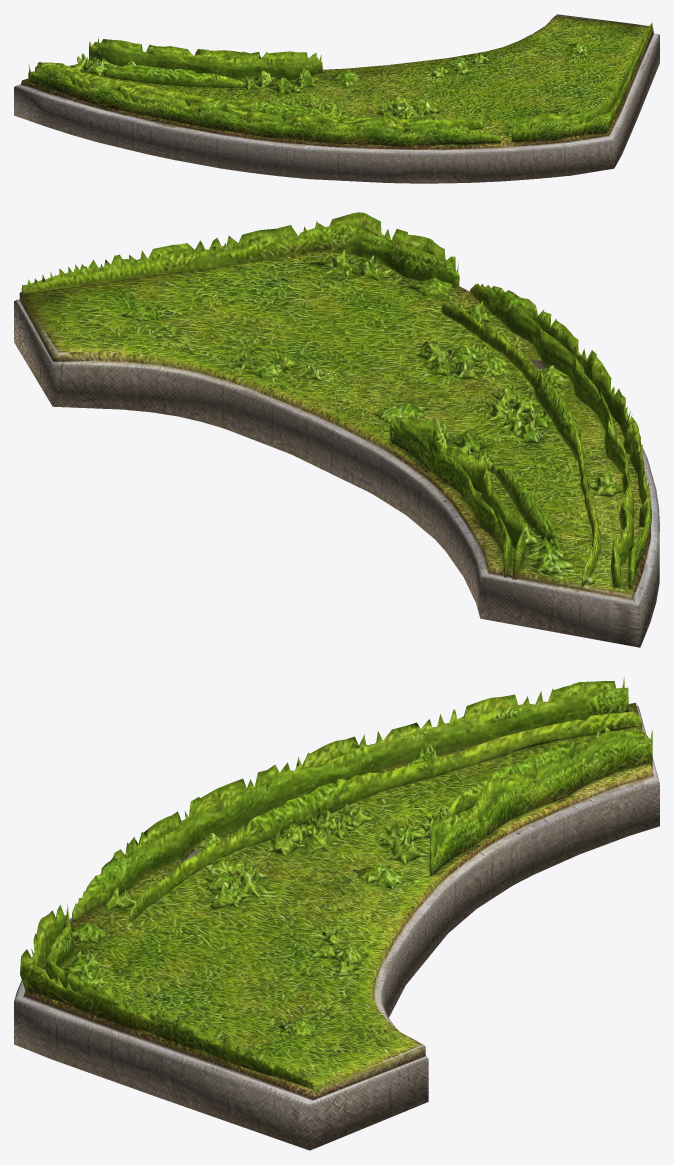
Rendered from grass_3-0accde7bc3.glb.
3 views of the same model, one above another, from view 1: azimuth 30°, elevation 25°; view 2: azimuth 150°, elevation 25°; view 3: azimuth 270°, elevation 25° (orthographic). The views are drawn at different scales.
Parts seen in each view (by area): view 1: tripo_node_d0c8da99-ea8b-4c45-8d3f-113d0a19af27; view 2: tripo_node_d0c8da99-ea8b-4c45-8d3f-113d0a19af27; view 3: tripo_node_d0c8da99-ea8b-4c45-8d3f-113d0a19af27.
Boxes of the visible parts, left/top/right/bottom form: tripo_node_d0c8da99-ea8b-4c45-8d3f-113d0a19af27: left=14, top=14, right=659, bottom=183; tripo_node_d0c8da99-ea8b-4c45-8d3f-113d0a19af27: left=14, top=212, right=659, bottom=647; tripo_node_d0c8da99-ea8b-4c45-8d3f-113d0a19af27: left=14, top=677, right=659, bottom=1150.
Size of the model in its own units: 0.9995 by 0.0991 by 0.6802.
1 material, 1 textured.
